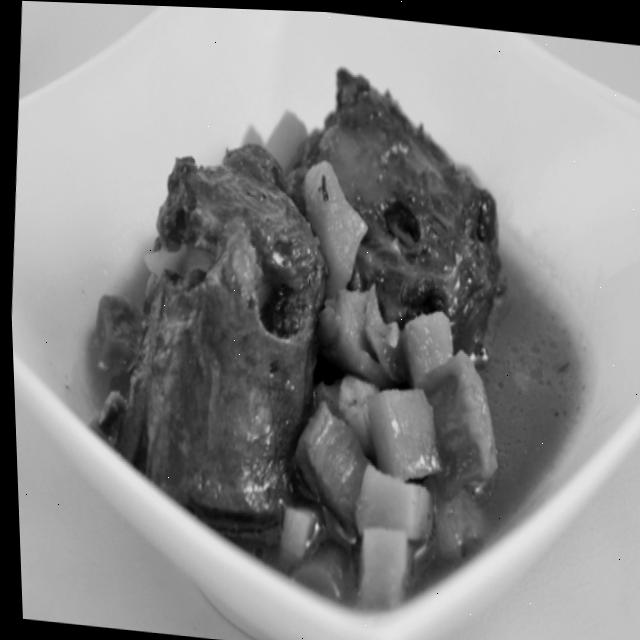汤锅炖物: (38, 6, 629, 629)
